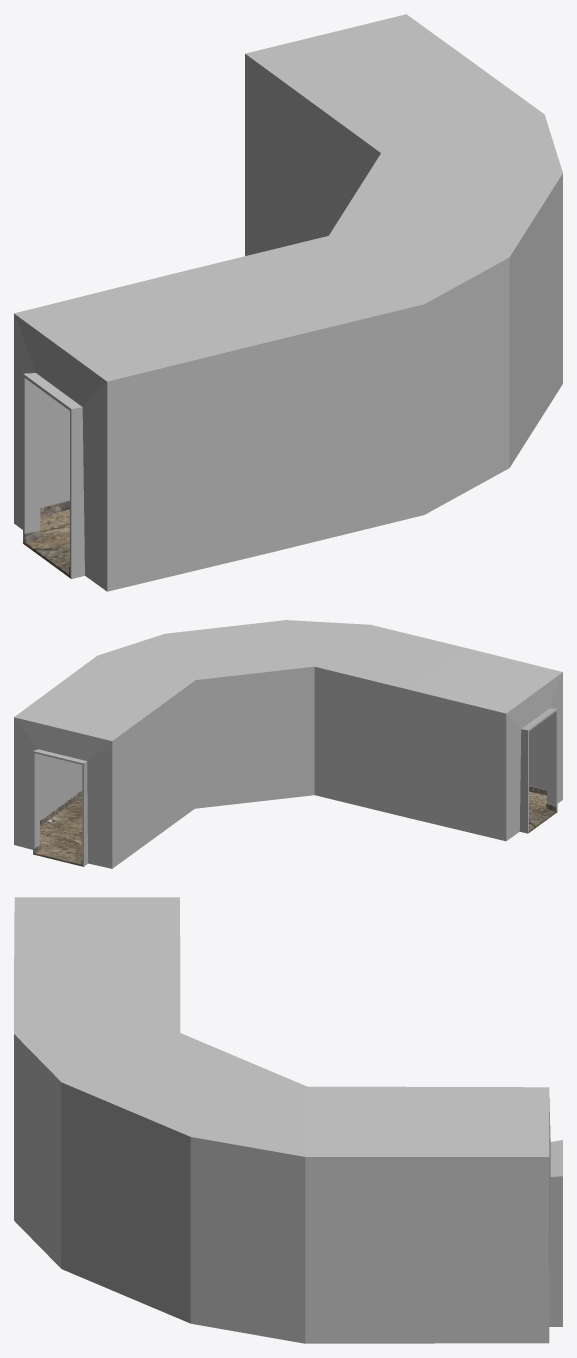
The model's file is Hallway_2.fbx.
The picture shows the model from 3 angles, top to bottom: view 1: azimuth 30°, elevation 25°; view 2: azimuth 150°, elevation 25°; view 3: azimuth 270°, elevation 25°; orthographic projection. The views are drawn at different scales.
Visible parts, largest first — view 1: Hallway_2; view 2: Hallway_2; view 3: Hallway_2.
Boxes of the visible parts, bbox=[...] form: Hallway_2: bbox=[14, 14, 562, 591]; Hallway_2: bbox=[14, 620, 562, 868]; Hallway_2: bbox=[14, 897, 562, 1343].
Size of the model in its own units: 784 by 258 by 684.
